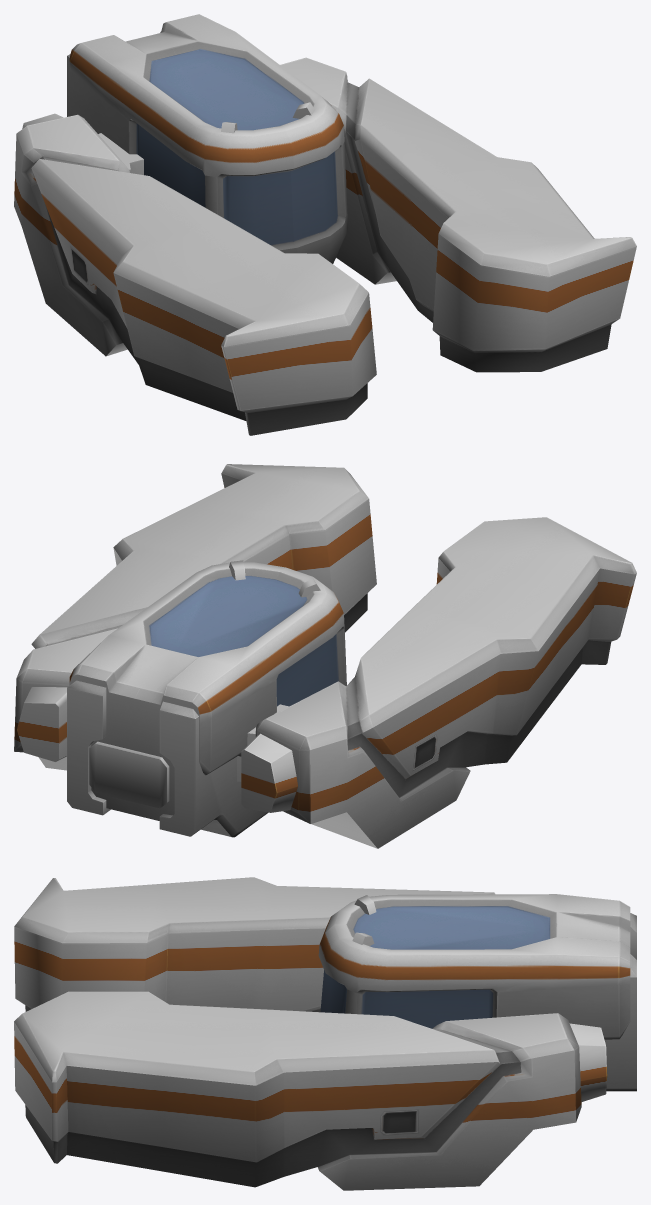
The picture shows the model from 3 angles, top to bottom: view 1: azimuth 30°, elevation 25°; view 2: azimuth 150°, elevation 25°; view 3: azimuth 270°, elevation 25°; orthographic projection. The views are drawn at different scales.
Visible parts, largest first — view 1: polySurface621; view 2: polySurface621; view 3: polySurface621.
Boxes of the visible parts, <box> form: polySurface621: <box>14,14,636,435</box>; polySurface621: <box>14,464,636,848</box>; polySurface621: <box>14,877,636,1190</box>.
Bounding box in the file's own units: 737 × 321 × 956.
